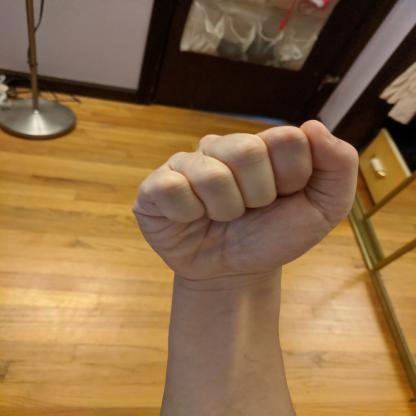A: (128, 114, 366, 290)
